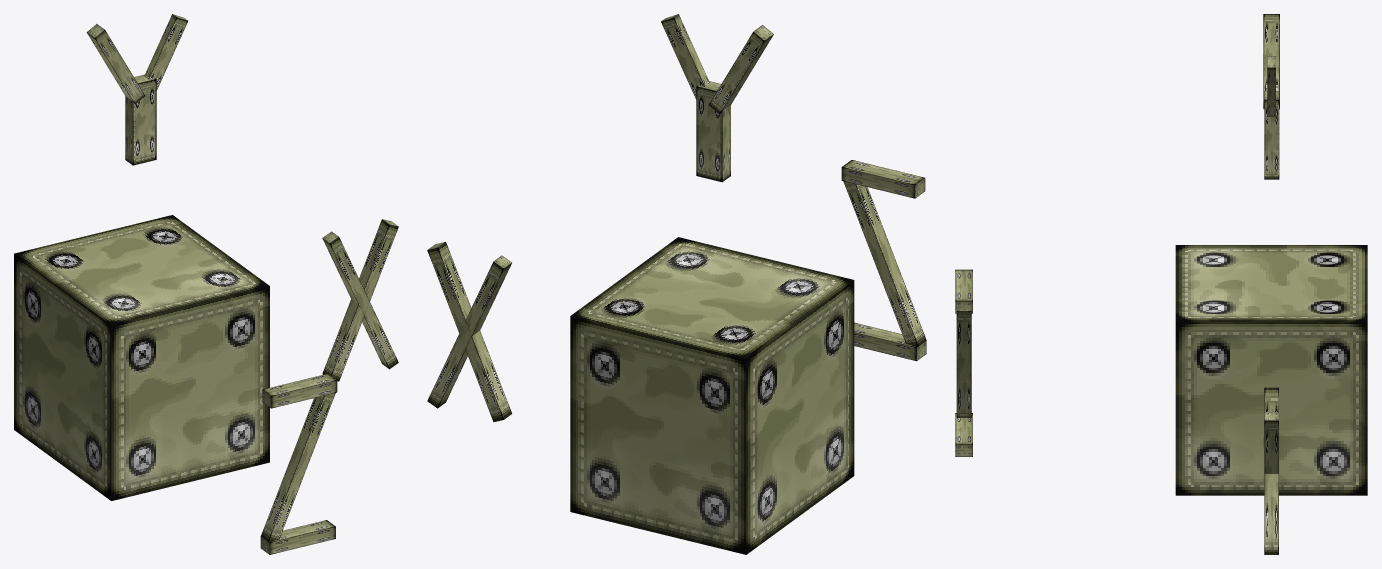
File: TestAxis.dae
The picture shows the model from 3 angles, left to right: view 1: azimuth 30°, elevation 25°; view 2: azimuth 150°, elevation 25°; view 3: azimuth 270°, elevation 25°; orthographic projection. The views are drawn at different scales.
Visible parts, largest first — view 1: Box06, Z, Y, X; view 2: Box06, Z, X, Y; view 3: Box06, Z, Y, X.
Part boxes in pixels (x1=…): Box06: x1=14, y1=215, x2=269, y2=500; Z: x1=260, y1=373, x2=337, y2=554; Y: x1=86, y1=14, x2=187, y2=165; X: x1=322, y1=219, x2=398, y2=381; Box06: x1=570, y1=237, x2=854, y2=554; Z: x1=841, y1=160, x2=926, y2=361; X: x1=427, y1=242, x2=511, y2=422; Y: x1=661, y1=14, x2=773, y2=182; Box06: x1=1175, y1=245, x2=1367, y2=495; Z: x1=955, y1=269, x2=972, y2=456; Y: x1=1263, y1=14, x2=1279, y2=179; X: x1=1264, y1=387, x2=1278, y2=554.
Bounding box in the file's own units: 8.38 × 10.35 × 9.13.
1 material, 1 textured.
